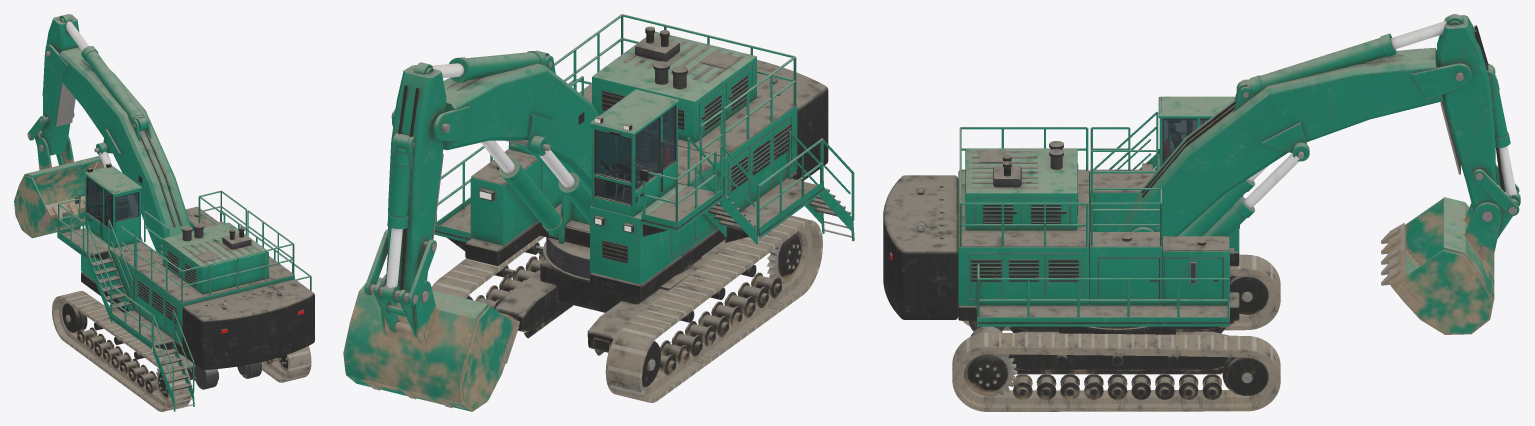
The model's file is excavator-150t.glb.
3 views of the same model, side by side, from view 1: azimuth 30°, elevation 25°; view 2: azimuth 150°, elevation 25°; view 3: azimuth 270°, elevation 25° (orthographic). The views are drawn at different scales.
Visible parts, largest first — view 1: EngineCover, Counterweight, Upper, Boom, Bucket, Track_L, Stick, Cab, Glass, StickCyl_Barrel, Track_R, Undercarriage (+2 smaller); view 2: Upper, EngineCover, Bucket, Track_L, Boom, Undercarriage, Stick, Cab, Glass, Counterweight, BoomCyl_Barrel, Track_R (+19 smaller); view 3: Upper, Boom, EngineCover, Track_R, Bucket, Counterweight, Stick, Undercarriage, StickCyl_Barrel, Track_L, BoomCyl_Barrel, Cab (+9 smaller).
Boxes of the visible parts, x1=… form: EngineCover: x1=135, y1=210, x2=294, y2=344; Counterweight: x1=182, y1=279, x2=314, y2=369; Upper: x1=57, y1=190, x2=311, y2=411; Boom: x1=45, y1=44, x2=190, y2=251; Bucket: x1=14, y1=136, x2=104, y2=238; Track_L: x1=52, y1=291, x2=191, y2=411; Stick: x1=41, y1=14, x2=79, y2=155; Cab: x1=75, y1=163, x2=141, y2=247; Glass: x1=87, y1=177, x2=138, y2=229; StickCyl_Barrel: x1=81, y1=46, x2=147, y2=130; Track_R: x1=261, y1=346, x2=311, y2=382; Undercarriage: x1=112, y1=308, x2=261, y2=389; Upper: x1=434, y1=76, x2=854, y2=300; EngineCover: x1=554, y1=14, x2=797, y2=211; Bucket: x1=343, y1=274, x2=519, y2=411; Track_L: x1=605, y1=215, x2=822, y2=402; Boom: x1=391, y1=55, x2=599, y2=194; Undercarriage: x1=494, y1=237, x2=734, y2=355; Stick: x1=385, y1=65, x2=446, y2=302; Cab: x1=590, y1=89, x2=679, y2=216; Glass: x1=596, y1=106, x2=674, y2=203; Counterweight: x1=757, y1=60, x2=828, y2=180; BoomCyl_Barrel: x1=499, y1=158, x2=591, y2=238; Track_R: x1=431, y1=236, x2=544, y2=298; Upper: x1=958, y1=111, x2=1243, y2=326; Boom: x1=1124, y1=47, x2=1471, y2=237; EngineCover: x1=958, y1=127, x2=1089, y2=305; Track_R: x1=952, y1=332, x2=1280, y2=411; Bucket: x1=1381, y1=197, x2=1501, y2=334; Counterweight: x1=883, y1=175, x2=958, y2=319; Stick: x1=1437, y1=15, x2=1504, y2=211; Undercarriage: x1=969, y1=320, x2=1234, y2=374; StickCyl_Barrel: x1=1236, y1=33, x2=1396, y2=95; Track_L: x1=962, y1=254, x2=1280, y2=330; BoomCyl_Barrel: x1=1178, y1=180, x2=1255, y2=236; Cab: x1=1158, y1=94, x2=1236, y2=167.
Bounding box in the file's own units: 5.5 × 8.29 × 13.6.
Materials: 2 (1 with a texture image).
